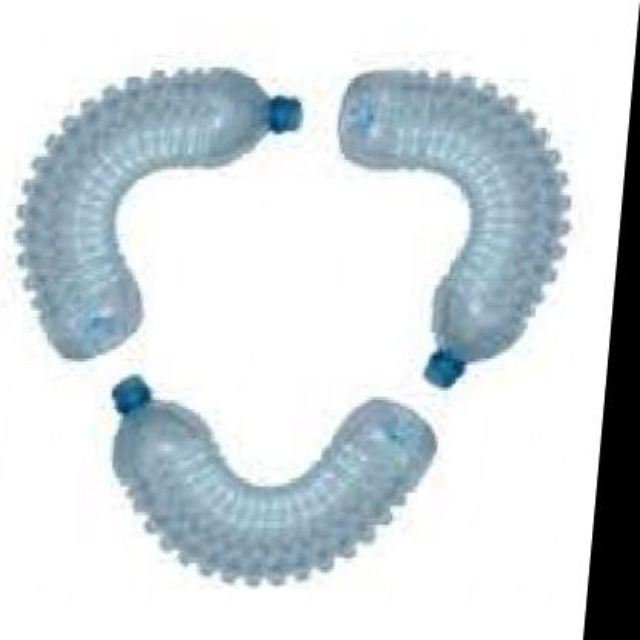trash: (18, 69, 300, 358), (338, 71, 568, 386), (112, 375, 435, 582), (112, 375, 435, 582)
